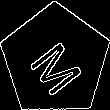M_NE: (23, 27, 88, 94)
